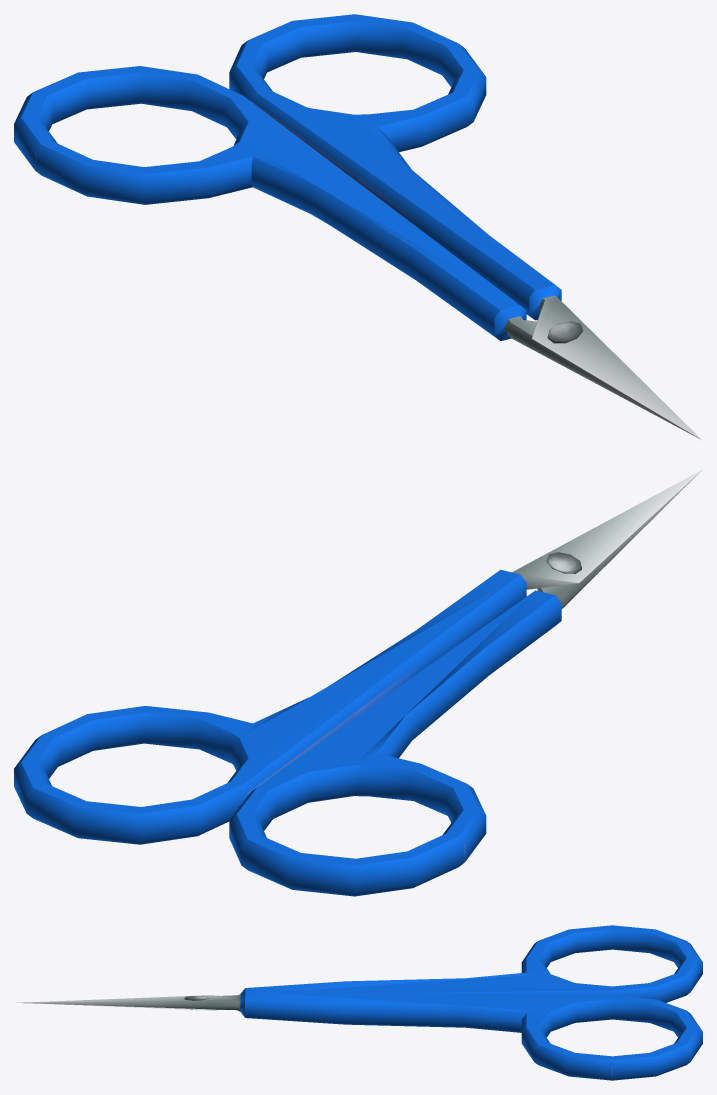
The model's file is Obj-Ciseau-bleu_01.FBX.
3 views of the same model, one above another, from view 1: azimuth 30°, elevation 25°; view 2: azimuth 150°, elevation 25°; view 3: azimuth 270°, elevation 25° (orthographic). The views are drawn at different scales.
Visible parts, largest first — view 1: Obj-Ciseau-bleu_01; view 2: Obj-Ciseau-bleu_01; view 3: Obj-Ciseau-bleu_01.
Boxes of the visible parts, x1=… form: Obj-Ciseau-bleu_01: x1=14, y1=14, x2=702, y2=440; Obj-Ciseau-bleu_01: x1=14, y1=470, x2=701, y2=896; Obj-Ciseau-bleu_01: x1=15, y1=925, x2=702, y2=1080.
Bounding box in the file's own units: 4.38 × 9.2 × 0.4185.
Materials: 1 (1 with a texture image).
